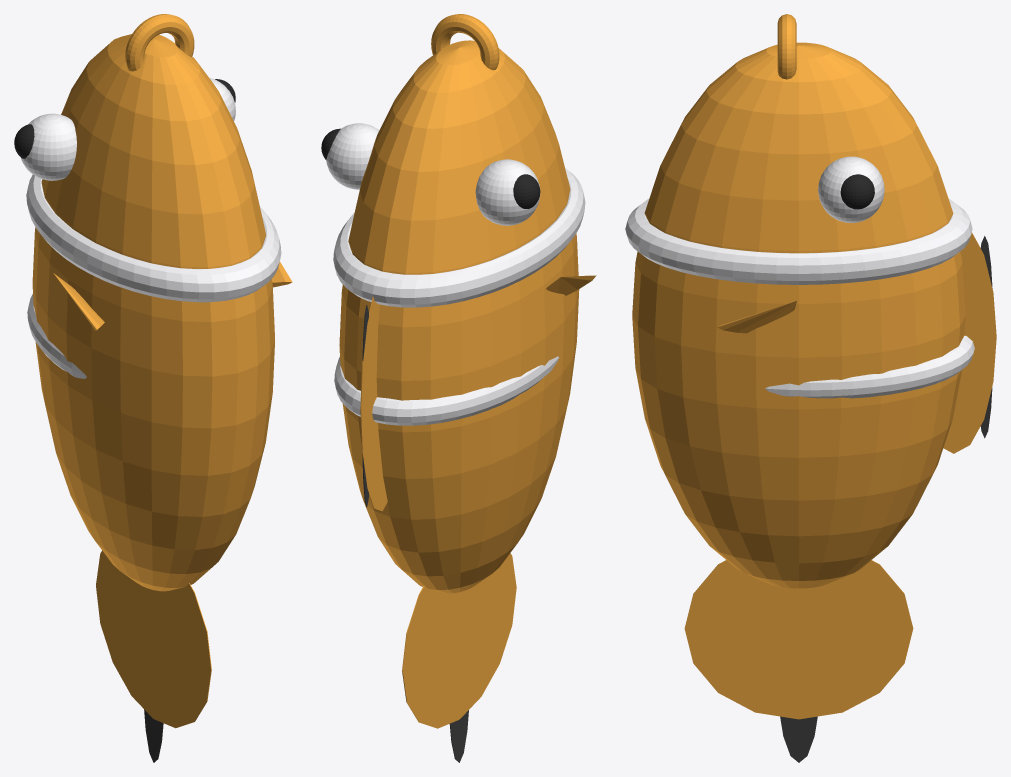
File: clownfish.glb
The picture shows the model from 3 angles, left to right: view 1: azimuth 30°, elevation 25°; view 2: azimuth 150°, elevation 25°; view 3: azimuth 270°, elevation 25°; orthographic projection.
Parts seen in each view (by area): view 1: Clownfish_Body, Cylinder.002, Torus, Sphere, Torus.003, Torus.001, Cylinder.003, Cone, Sphere.001; view 2: Clownfish_Body, Cylinder.002, Torus, Torus.001, Cylinder, Sphere, Sphere.002, Torus.003, Sphere.001, Cylinder.003, Cone; view 3: Clownfish_Body, Cylinder.002, Torus, Cylinder, Torus.001, Sphere.002, Torus.003, Cylinder.003, Cone.001, Sphere.003.
Part boxes in pixels (<box>): Clownfish_Body: <box>32,34,274,591</box>; Cylinder.002: <box>96,550,211,728</box>; Torus: <box>26,174,281,302</box>; Sphere: <box>20,113,76,180</box>; Torus.003: <box>125,14,194,71</box>; Torus.001: <box>27,294,86,378</box>; Cylinder.003: <box>144,709,163,762</box>; Cone: <box>53,273,104,330</box>; Sphere.001: <box>14,124,34,158</box>; Clownfish_Body: <box>339,40,579,593</box>; Cylinder.002: <box>402,553,516,728</box>; Torus: <box>333,168,585,307</box>; Torus.001: <box>334,356,559,425</box>; Cylinder: <box>360,296,387,511</box>; Sphere: <box>475,159,540,225</box>; Sphere.002: <box>326,123,379,189</box>; Torus.003: <box>431,14,499,70</box>; Sphere.001: <box>513,174,540,208</box>; Cylinder.003: <box>449,710,468,762</box>; Cone: <box>546,275,596,295</box>; Clownfish_Body: <box>632,42,965,588</box>; Cylinder.002: <box>684,560,913,719</box>; Torus: <box>625,199,972,284</box>; Cylinder: <box>943,232,996,453</box>; Torus.001: <box>765,335,974,398</box>; Sphere.002: <box>818,156,884,222</box>; Torus.003: <box>777,14,796,79</box>; Cylinder.003: <box>780,716,817,762</box>; Cone.001: <box>717,301,796,333</box>; Sphere.003: <box>840,174,874,209</box>.
Size of the model in its own units: 1.04 by 3.45 by 1.56.
